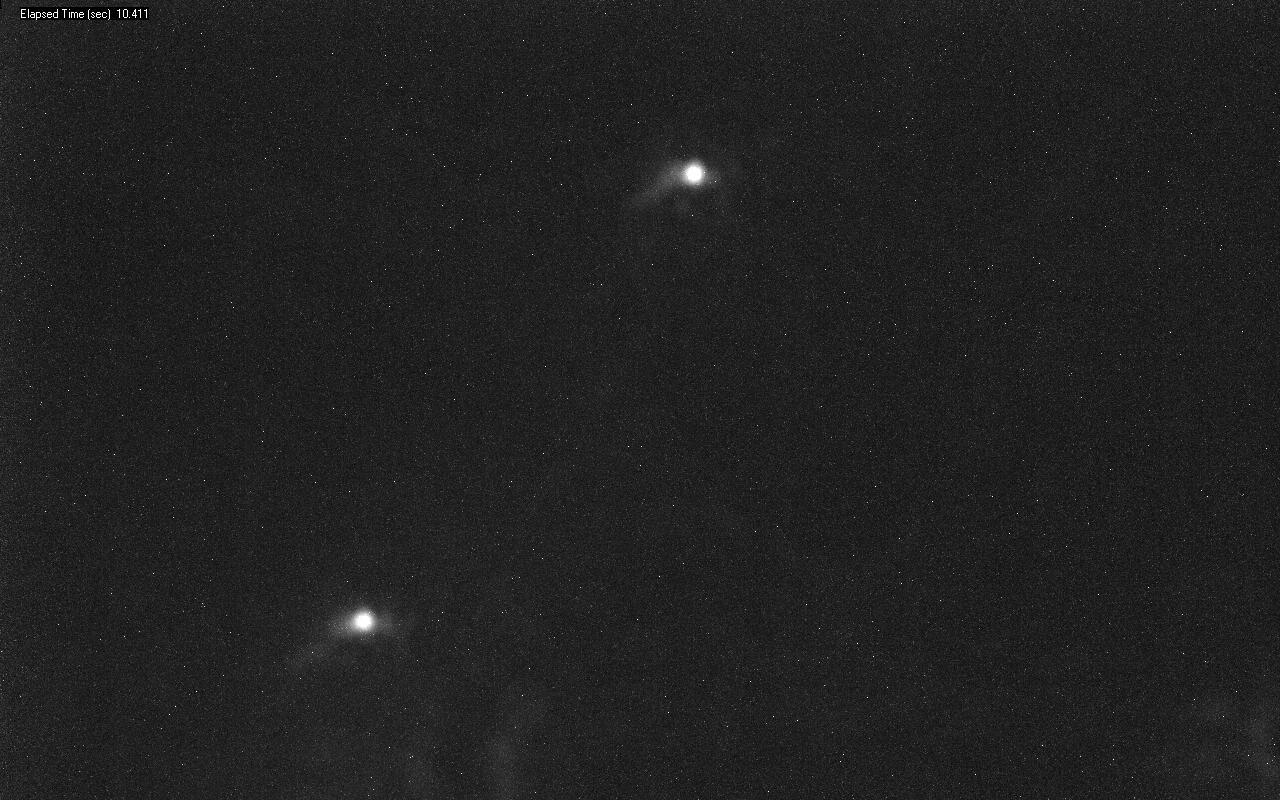Bead: (679, 161, 706, 186), (350, 609, 376, 633)
